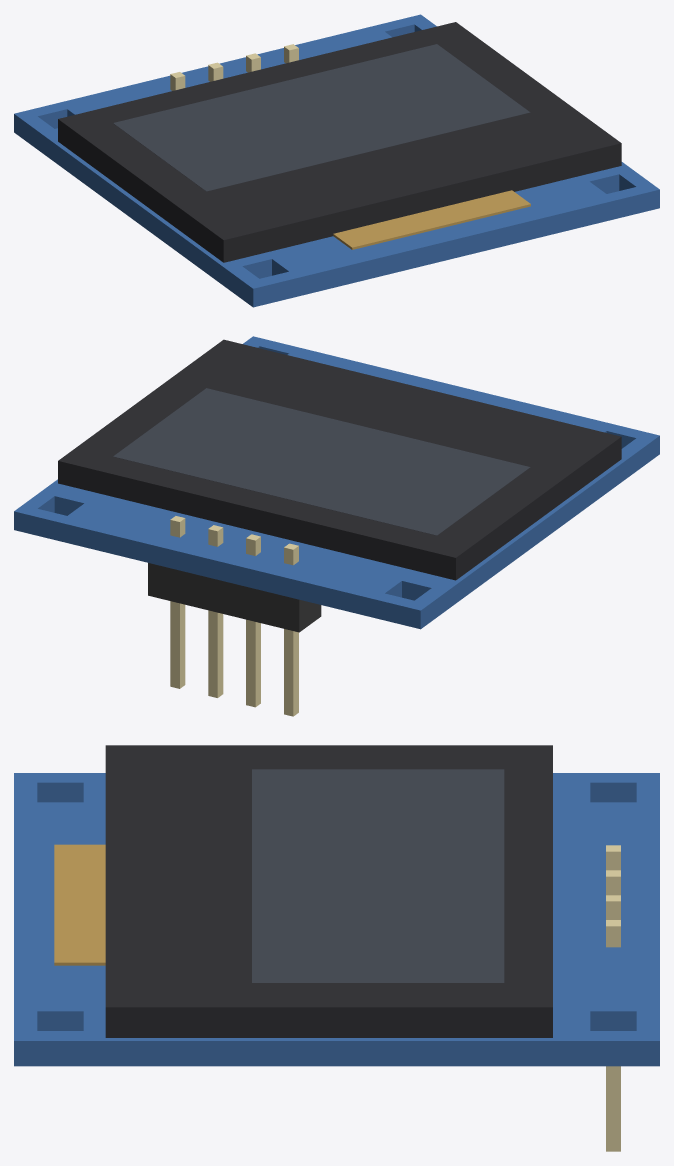
File: ssd1306_096.glb
The picture shows the model from 3 angles, top to bottom: view 1: azimuth 30°, elevation 25°; view 2: azimuth 150°, elevation 25°; view 3: azimuth 270°, elevation 25°; orthographic projection. The views are drawn at different scales.
Bounding box in the file's own units: 27.3 × 11.16 × 27.8.
